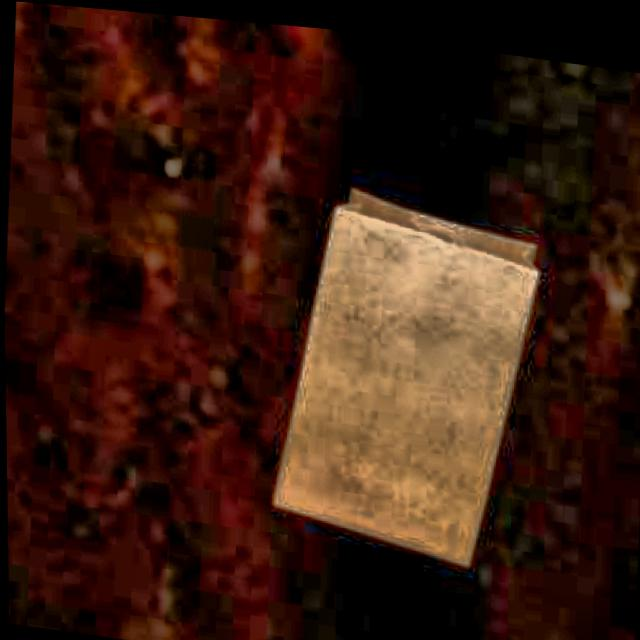Paper-bag: (257, 155, 557, 574)
